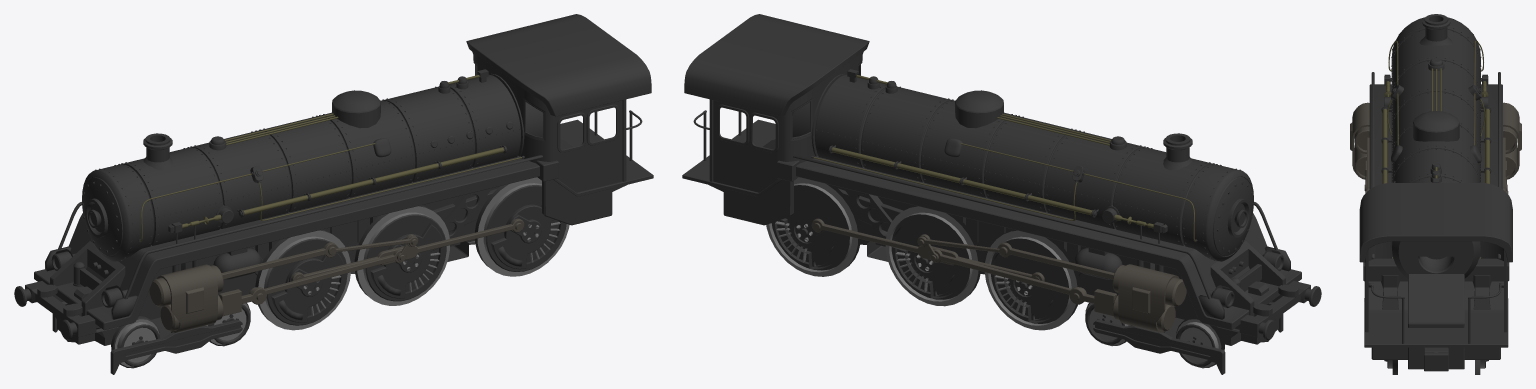
Rendered from tren.glb.
3 views of the same model, side by side, from view 1: azimuth 30°, elevation 25°; view 2: azimuth 150°, elevation 25°; view 3: azimuth 270°, elevation 25° (orthographic). The views are drawn at different scales.
Parts seen in each view (by area): view 1: Asset3DLoader.sceneRoot; view 2: Asset3DLoader.sceneRoot; view 3: Asset3DLoader.sceneRoot.
Part boxes in pixels (<box>): Asset3DLoader.sceneRoot: <box>14,14,653,374</box>; Asset3DLoader.sceneRoot: <box>682,14,1321,374</box>; Asset3DLoader.sceneRoot: <box>1350,14,1521,374</box>.
Bounding box in the file's own units: 5.5 × 1.86 × 1.51.
